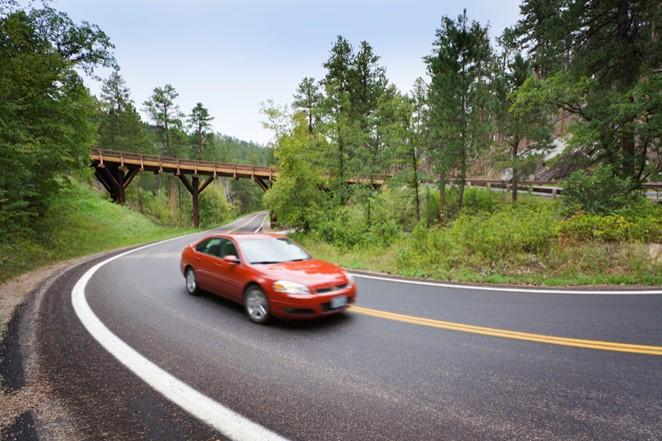car: (167, 217, 384, 355)
